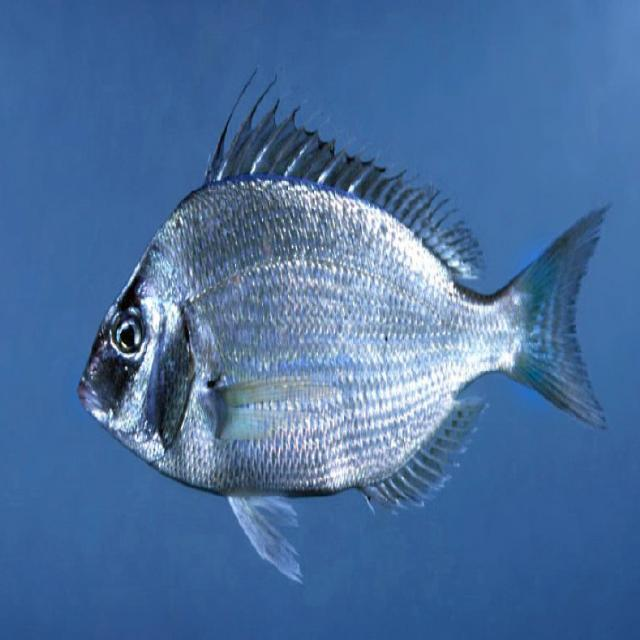Healthy Fish: (69, 66, 616, 588)
